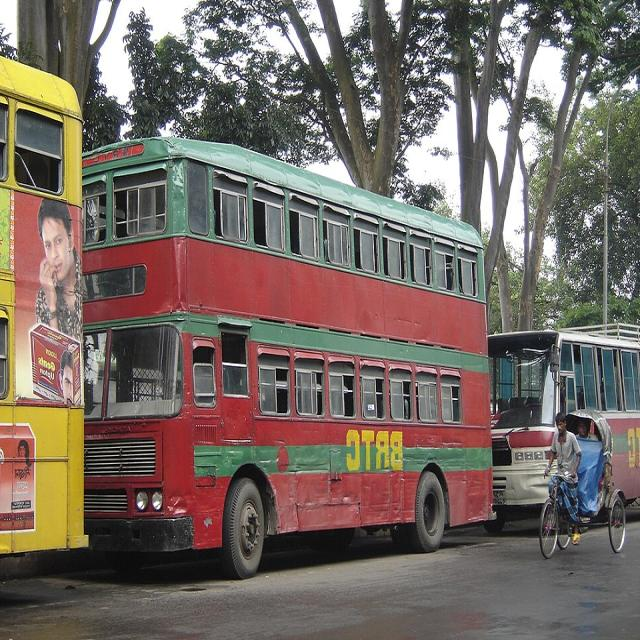Bus: (440, 291, 640, 563)
Double decker: (29, 112, 521, 597), (1, 34, 129, 594)
Rickshaw: (524, 386, 638, 576)
